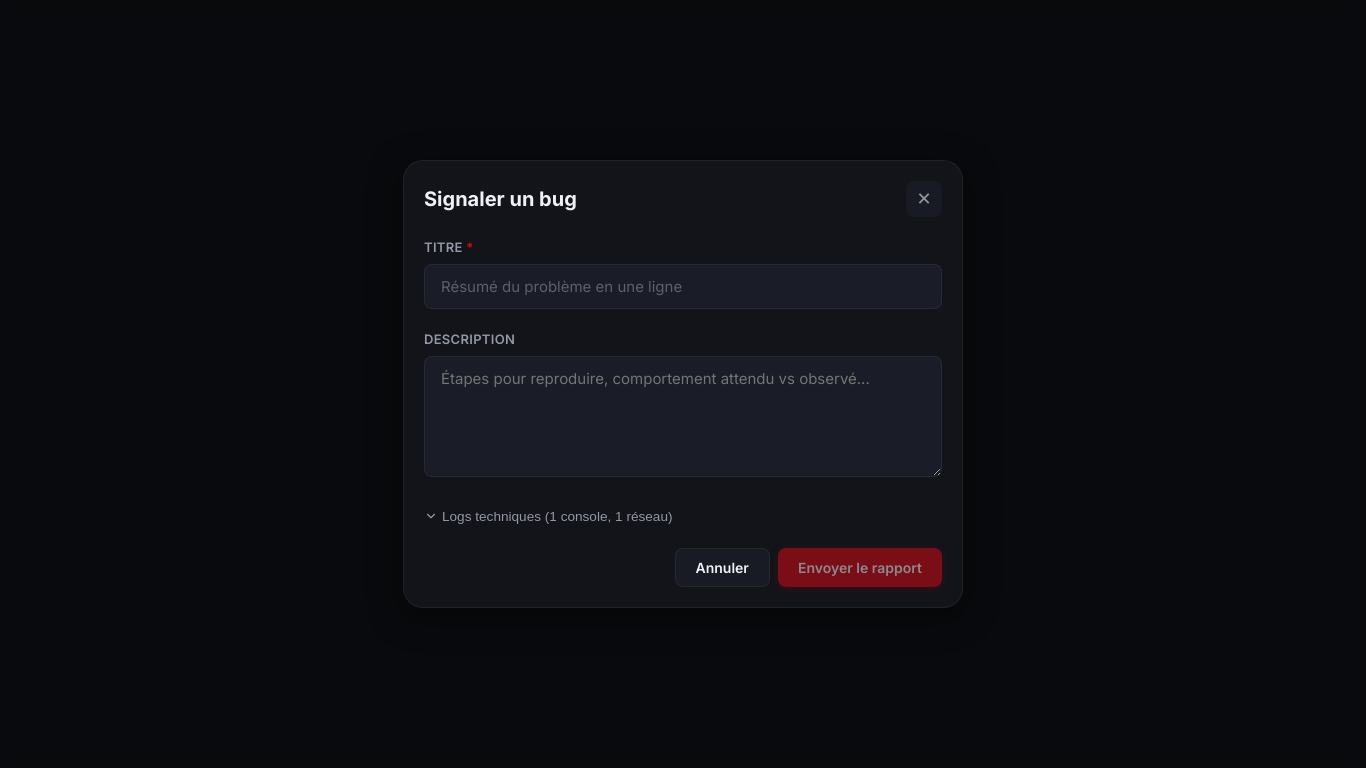
Test: BugReportModal — soumission › affiche une erreur inline si l'API retourne une erreur
Step 1. Type "Test" into the field labelled "Titre *" → x=683, y=287, box x1=424 y1=264 x2=942 y2=309
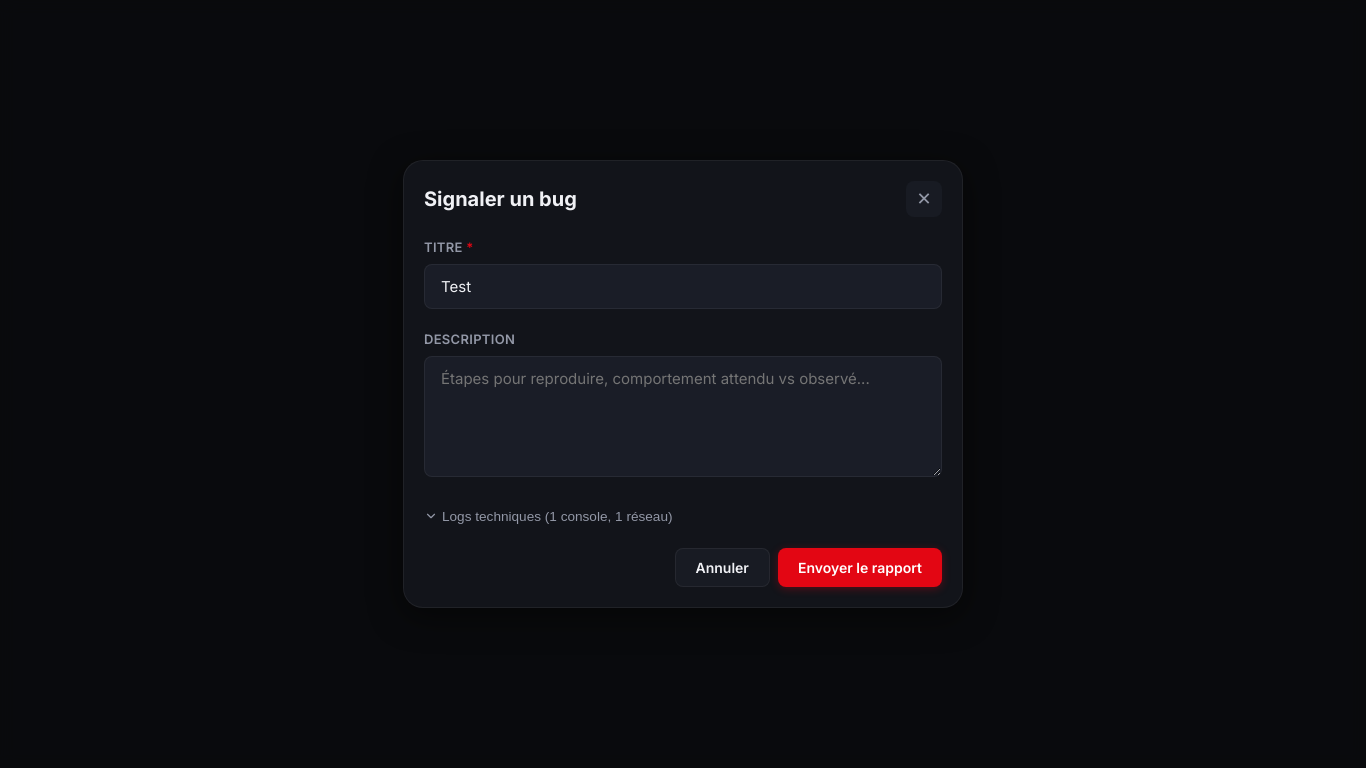
Step 2. Click the button "Envoyer le rapport" → x=860, y=567, box x1=778 y1=548 x2=942 y2=587
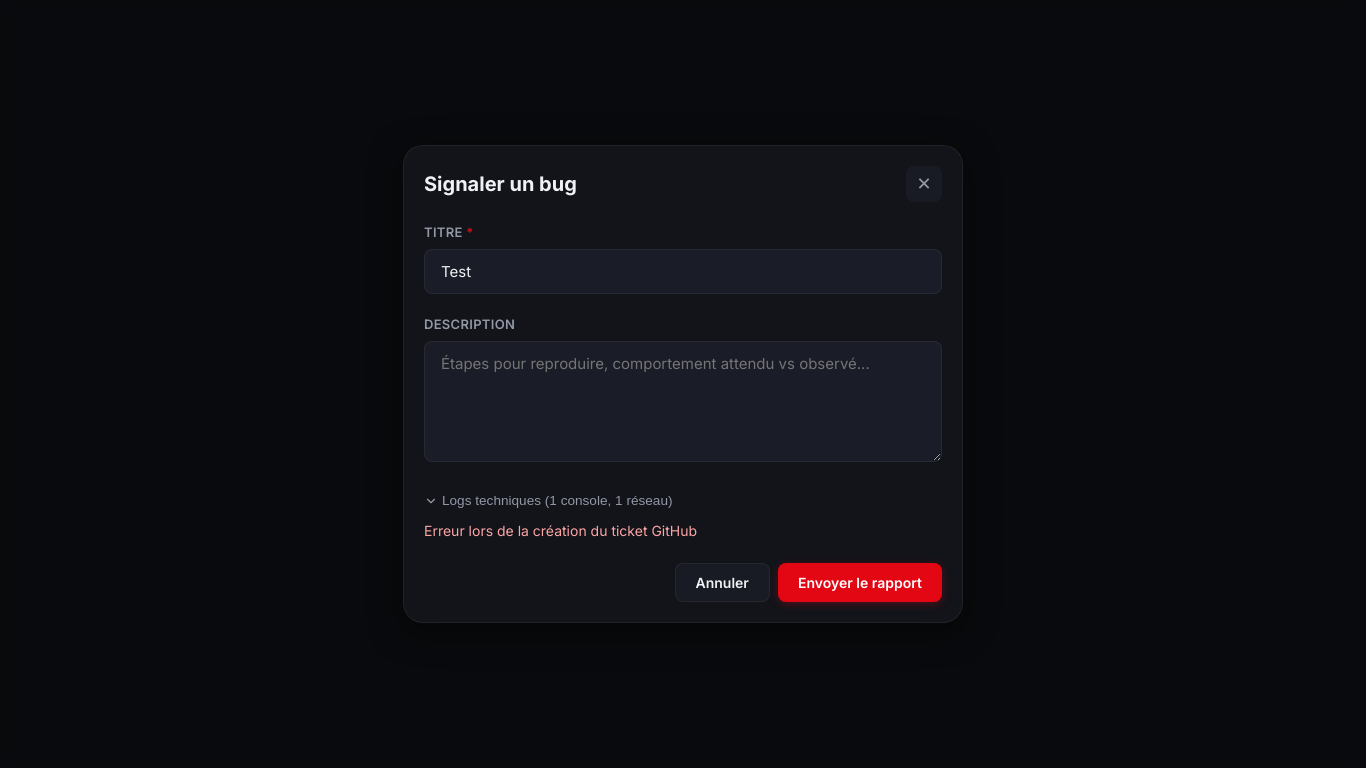
Expected: the text "Erreur lors de la création du ticket GitHub" is shown, x1=424 y1=522 x2=697 y2=539
